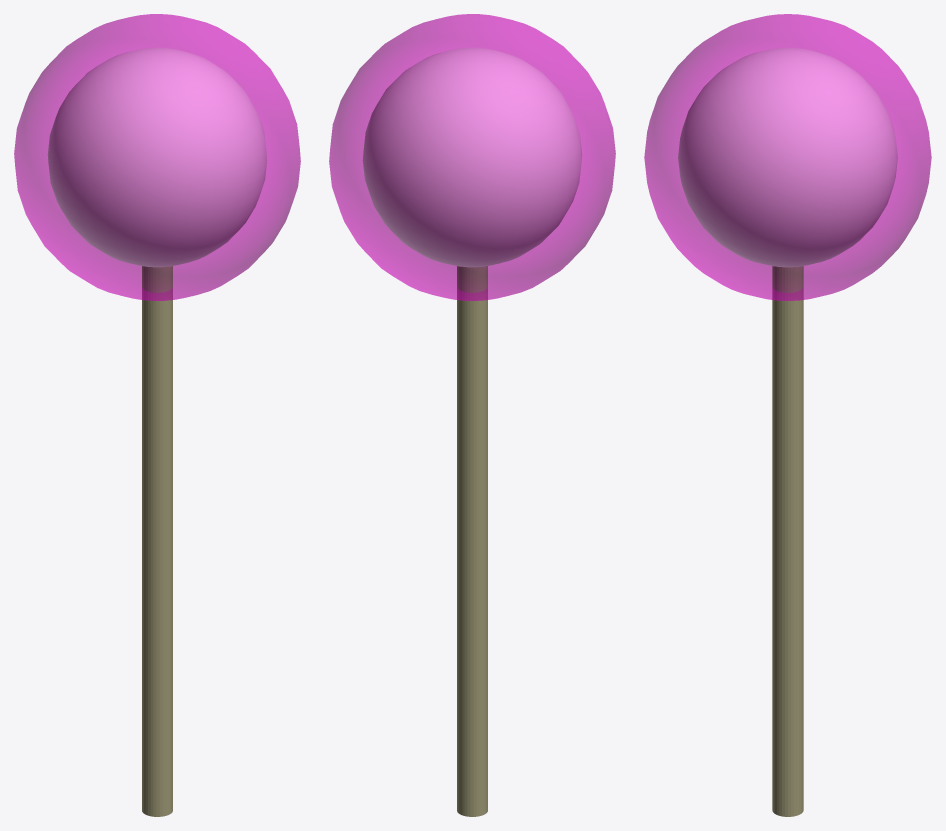
File: Lolipop Light.fbx
3 views of the same model, side by side, from view 1: azimuth 30°, elevation 25°; view 2: azimuth 150°, elevation 25°; view 3: azimuth 270°, elevation 25° (orthographic).
Visible parts, largest first — view 1: Sphere, Sphere.001, Cylinder; view 2: Sphere, Sphere.001, Cylinder; view 3: Sphere, Sphere.001, Cylinder.
Part boxes in pixels (x1=…): Sphere: x1=14, y1=14, x2=300, y2=300; Sphere.001: x1=47, y1=47, x2=267, y2=267; Cylinder: x1=142, y1=266, x2=172, y2=816; Sphere: x1=329, y1=14, x2=615, y2=300; Sphere.001: x1=362, y1=47, x2=582, y2=267; Cylinder: x1=457, y1=266, x2=487, y2=816; Sphere: x1=644, y1=14, x2=931, y2=300; Sphere.001: x1=678, y1=47, x2=897, y2=267; Cylinder: x1=772, y1=266, x2=803, y2=816.
Bounding box in the file's own units: 200 × 601 × 200.
